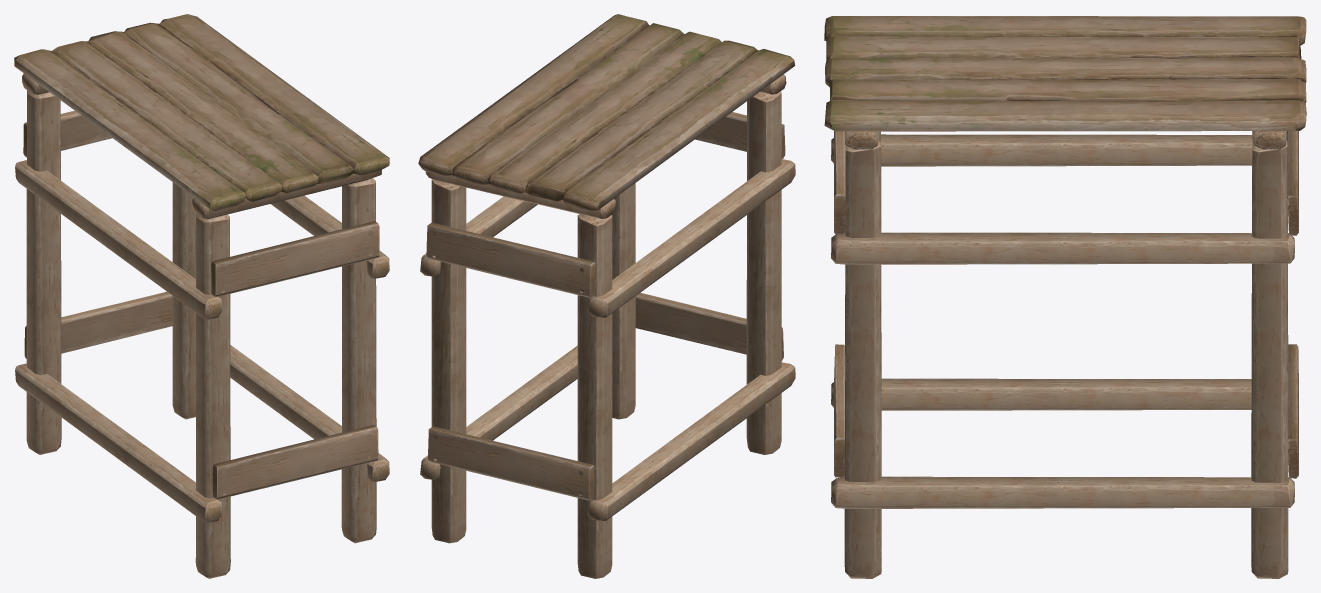
Rendered from Scaffolding_03.fbx.
3 renders of one model, left to right at view 1: azimuth 30°, elevation 25°; view 2: azimuth 150°, elevation 25°; view 3: azimuth 270°, elevation 25°, orthographic. The views are drawn at different scales.
Visible parts, largest first — view 1: Scaffolding_03; view 2: Scaffolding_03; view 3: Scaffolding_03.
Boxes of the visible parts, box(x1,y1,x2,y2) form: Scaffolding_03: box(14, 14, 389, 578); Scaffolding_03: box(418, 14, 795, 578); Scaffolding_03: box(824, 16, 1306, 578).
Bounding box in the file's own units: 1.01 × 2.01 × 1.88.
